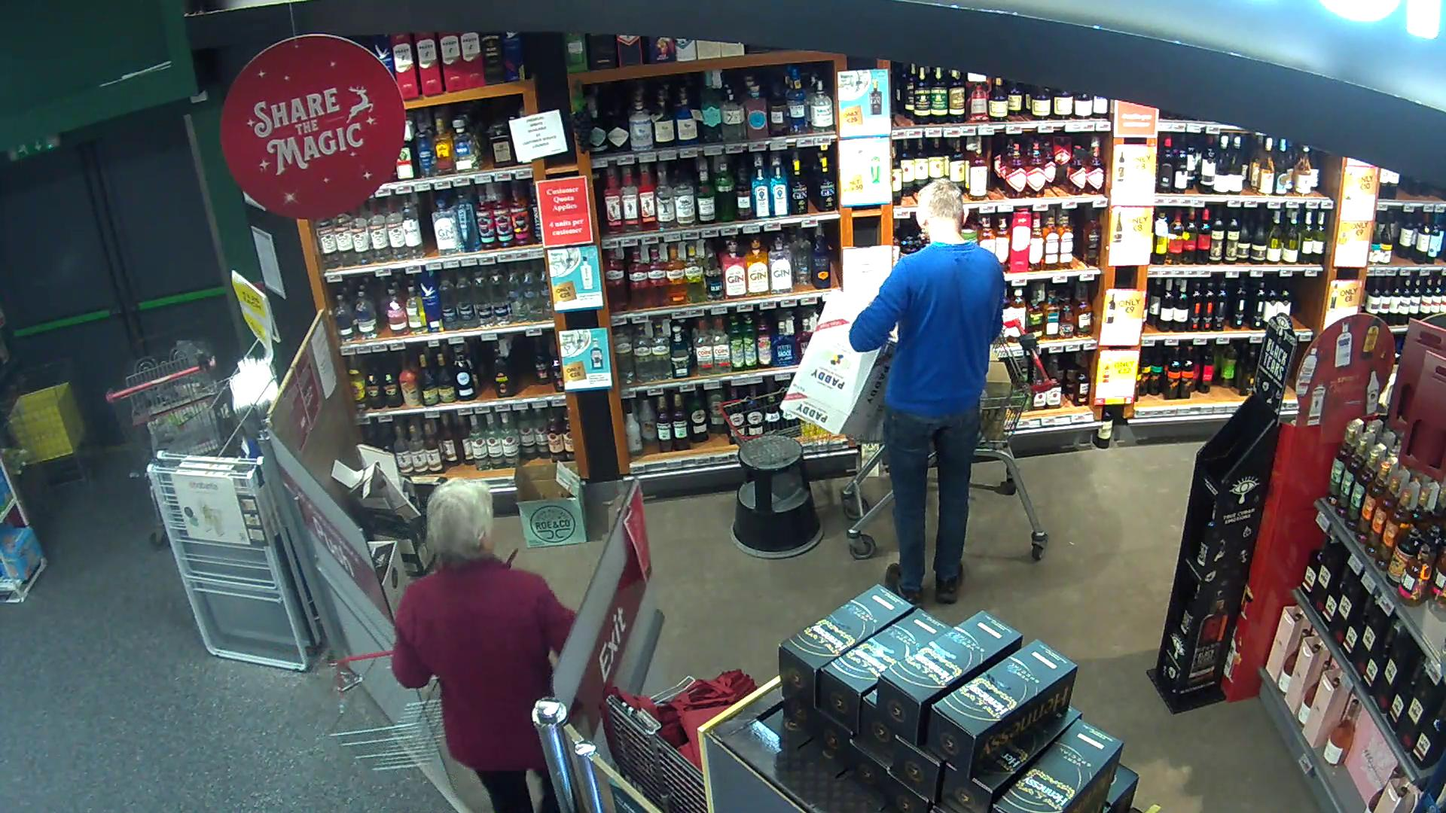empty-basket: (324, 645, 448, 773)
person: (393, 477, 578, 813)
person-with-empty-basket-trolly: (324, 476, 577, 813)
